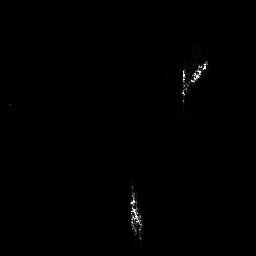ship: (176, 54, 211, 104), (124, 179, 148, 242)
